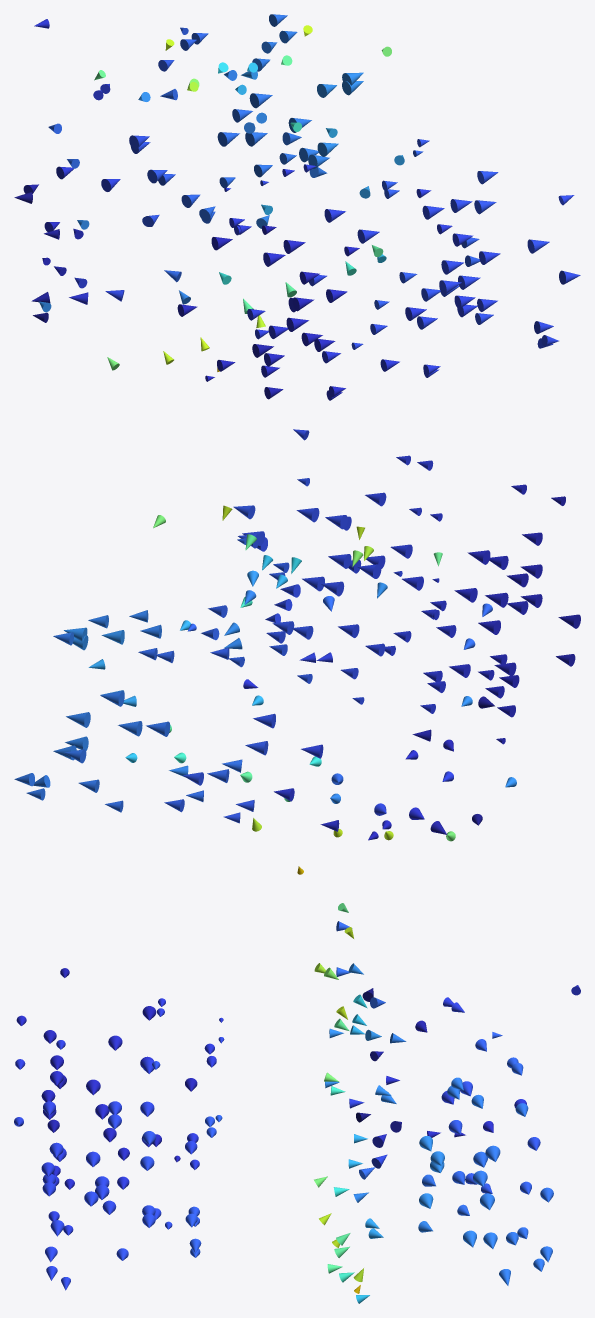
Rendered from LineasCorrienteN2-H2O_mh2-8.20_V-0.9.glb.
3 views of the same model, one above another, from view 1: azimuth 30°, elevation 25°; view 2: azimuth 150°, elevation 25°; view 3: azimuth 270°, elevation 25° (orthographic). The views are drawn at different scales.
Size of the model in its own units: 0.000995 by 0.000818 by 0.00124.
2 materials, 2 textured.
